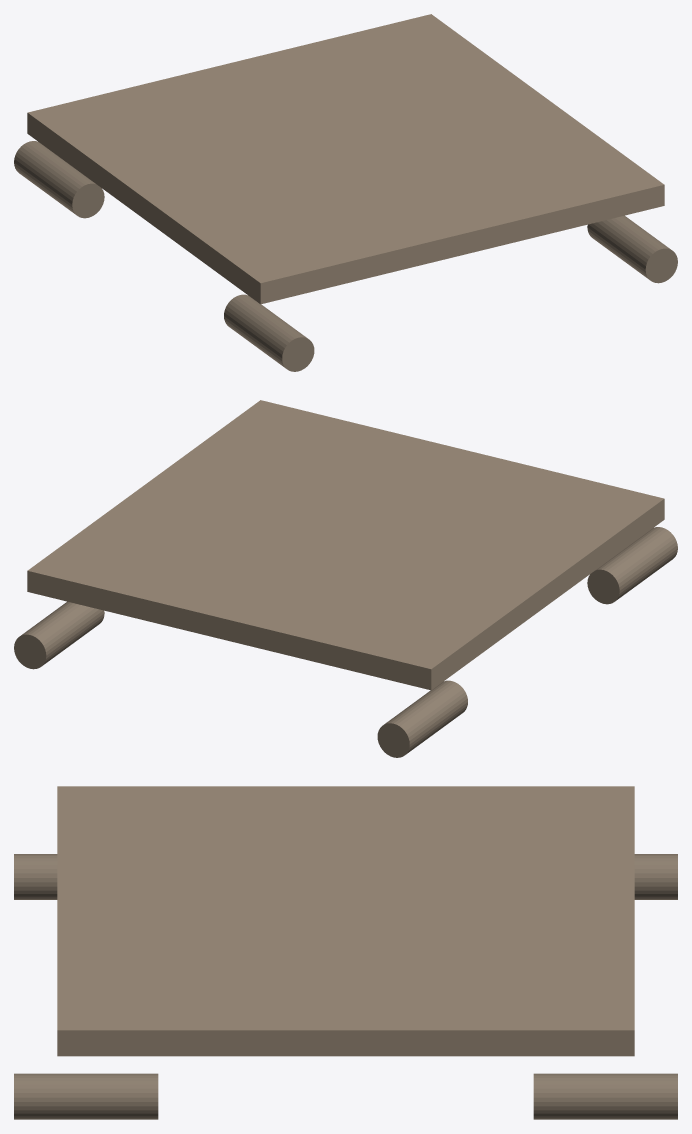
Rendered from wooden_platform.glb.
The picture shows the model from 3 angles, top to bottom: view 1: azimuth 30°, elevation 25°; view 2: azimuth 150°, elevation 25°; view 3: azimuth 270°, elevation 25°; orthographic projection. The views are drawn at different scales.
Visible parts, largest first — view 1: geometry_0; view 2: geometry_0; view 3: geometry_0.
Part boxes in pixels (x1,y1,x2,y2): geometry_0: (14,14,677,371); geometry_0: (14,400,677,757); geometry_0: (14,786,677,1119).
Size of the model in its own units: 2 by 0.38 by 2.3.
